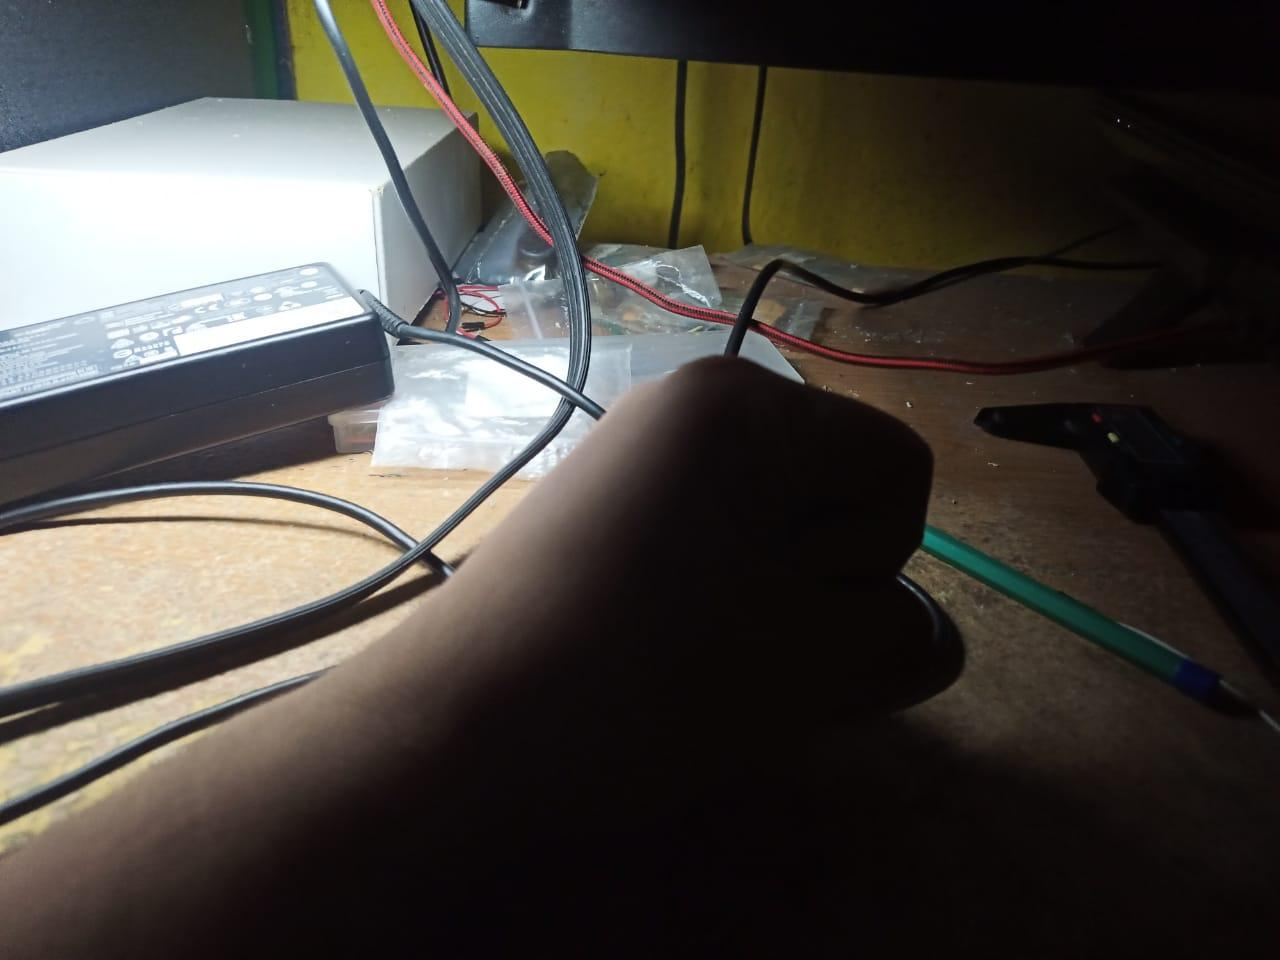Stone: (436, 336, 1018, 818)
